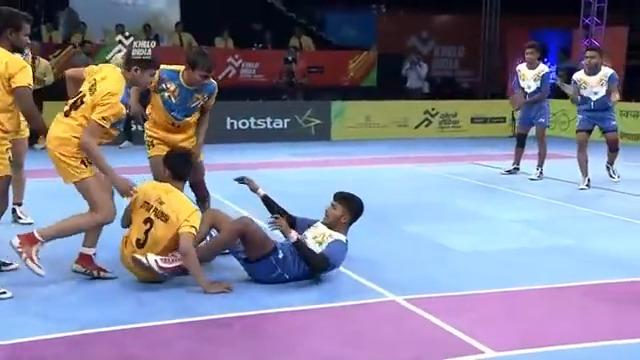Player: (8, 38, 158, 280), (119, 147, 233, 294), (121, 42, 219, 212), (558, 44, 624, 191), (499, 40, 553, 180)
Raider: (192, 174, 364, 285)
